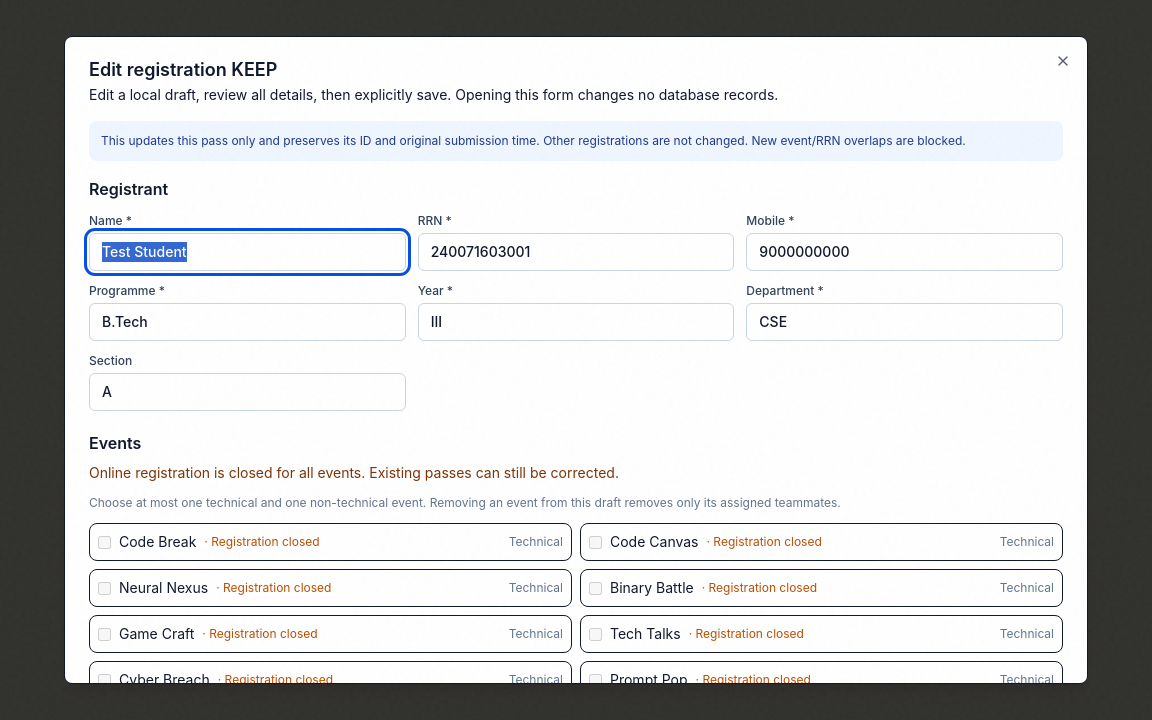
it: does not transfer an existing closed-event pass to a different RRN
The width and height of the screenshot is (1152, 720).
Replace the text in the field named "Registrant RRN" with "OTHER" at (576, 252), box top-left (418, 233), bottom-right (734, 271)
(page scrolled)
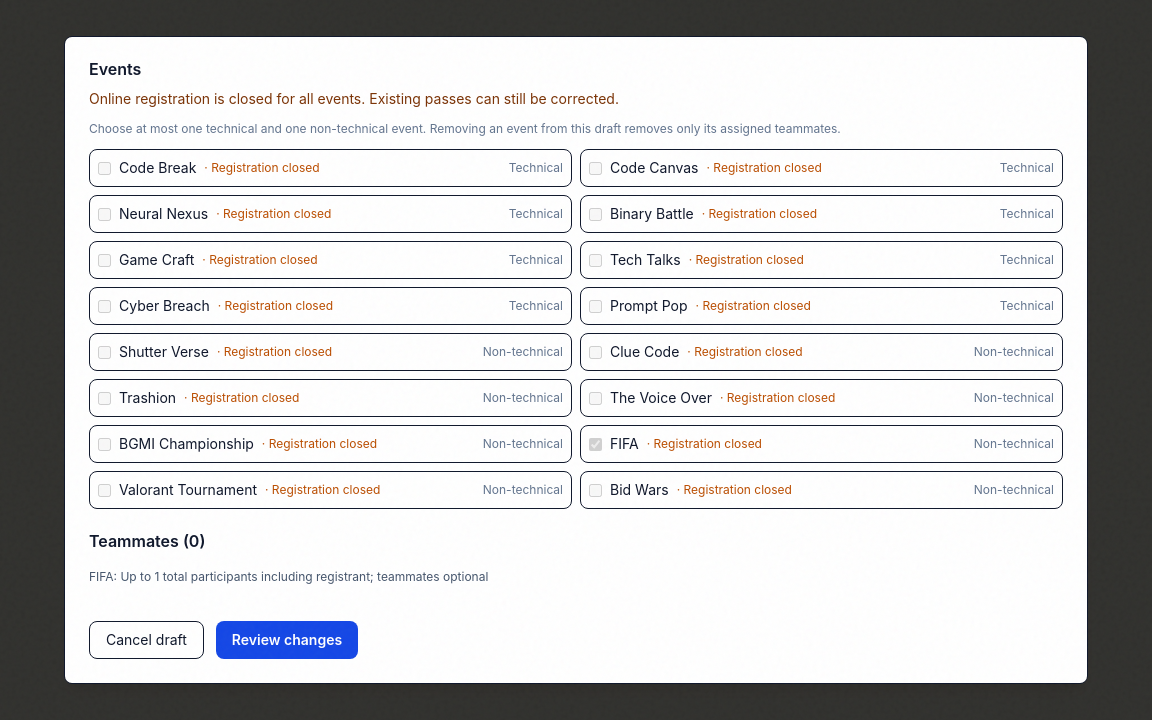
Click the button "Review changes".
click(287, 640)  # box top-left (216, 621), bottom-right (358, 659)
(page scrolled)
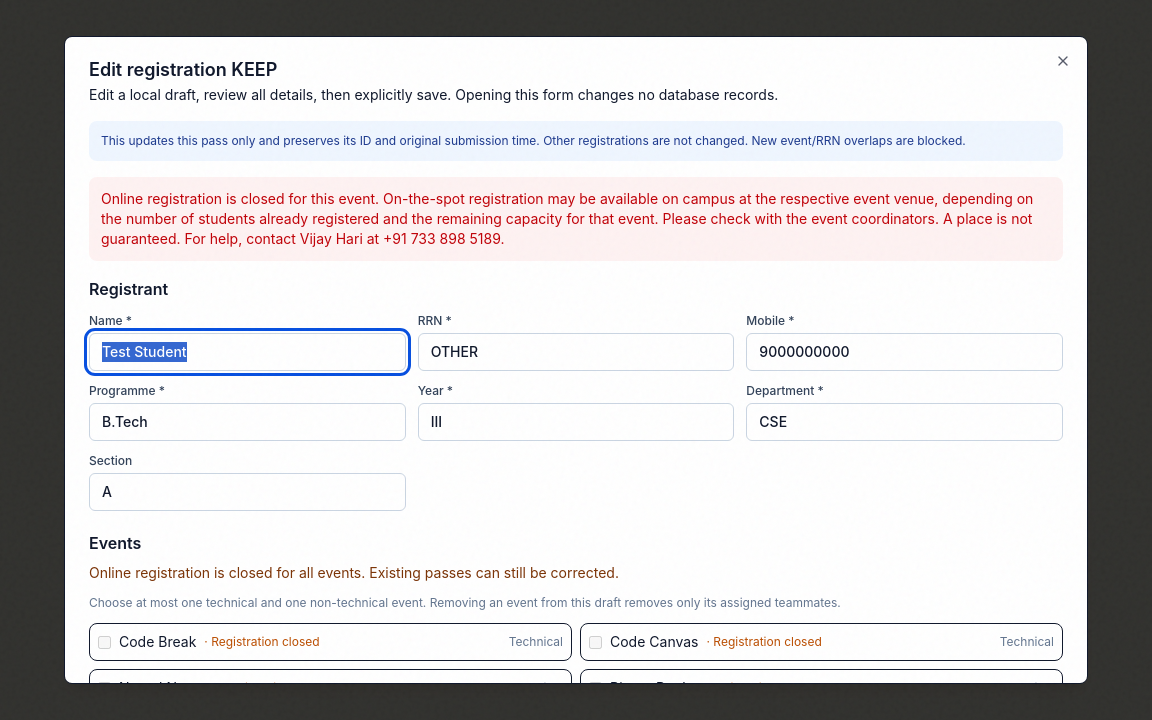
Check: the message shows "Online registration is closed for this event", box top-left (101, 190), bottom-right (1033, 247)
